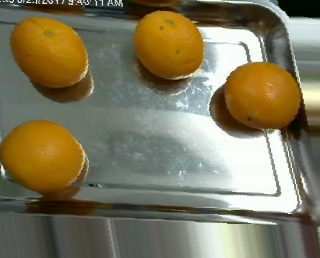Orange: (1, 118, 87, 192), (10, 15, 89, 87), (222, 60, 302, 131), (134, 10, 204, 80)
